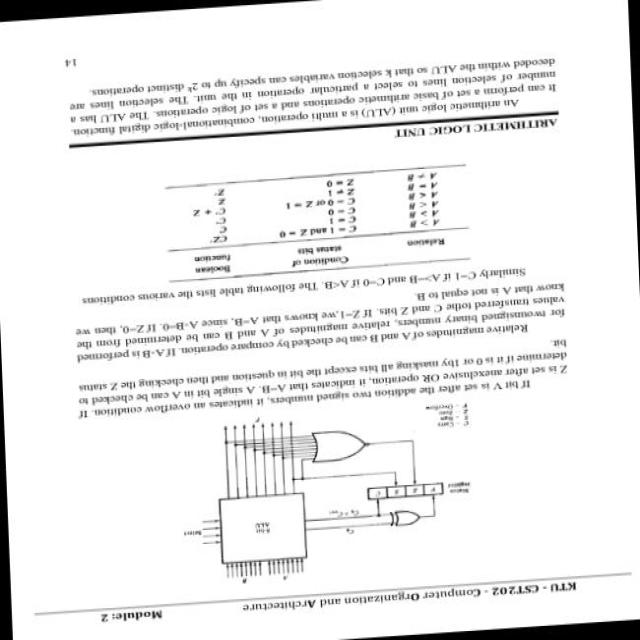Figure Detection - v3 Dataset Version2: (167, 398, 493, 597)
